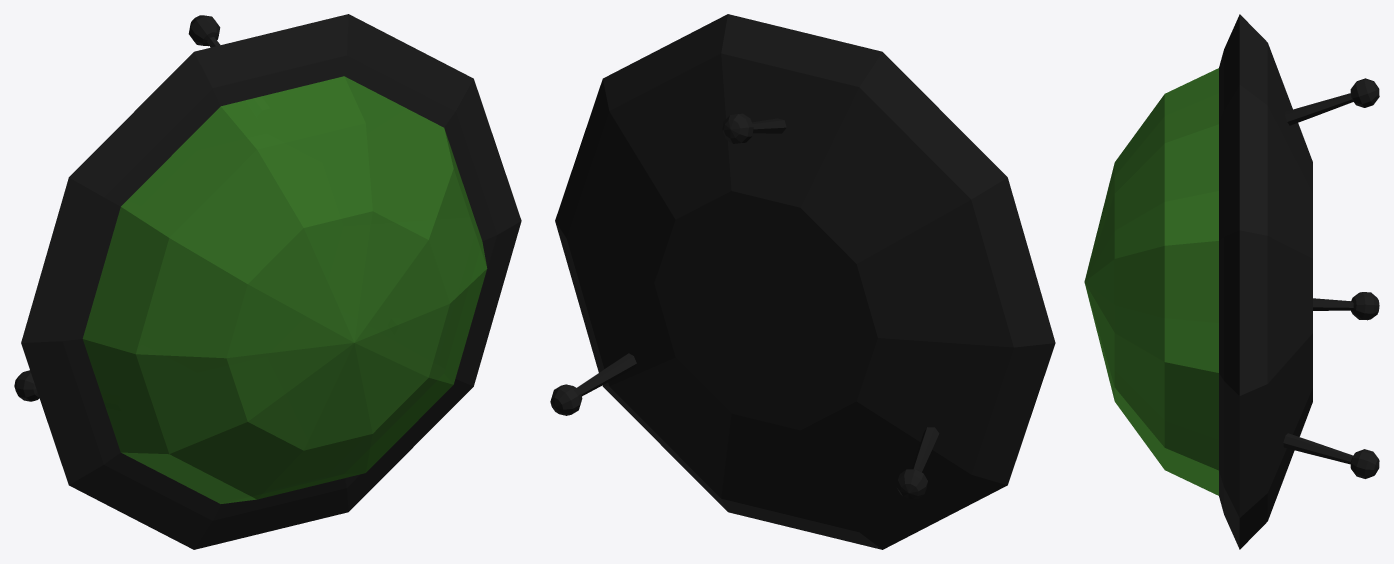
File: AlienShip.FBX
The picture shows the model from 3 angles, left to right: view 1: azimuth 30°, elevation 25°; view 2: azimuth 150°, elevation 25°; view 3: azimuth 270°, elevation 25°; orthographic projection. The views are drawn at different scales.
Parts seen in each view (by area): view 1: AlienShip; view 2: AlienShip; view 3: AlienShip.
Part boxes in pixels (x1,y1,x2,y2): AlienShip: [14, 14, 521, 549]; AlienShip: [550, 14, 1055, 549]; AlienShip: [1084, 14, 1379, 549].
Bounding box in the file's own units: 8.95 × 8.51 × 4.89.
